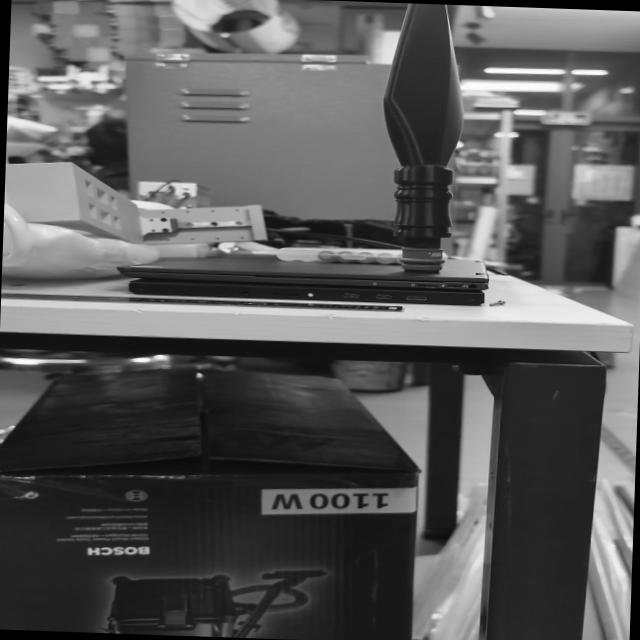base: (392, 245, 446, 282)
